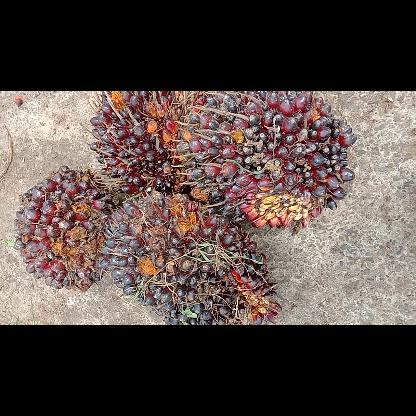Kurang masak: (175, 90, 360, 238), (99, 186, 281, 323), (86, 90, 223, 196), (11, 164, 119, 292)
